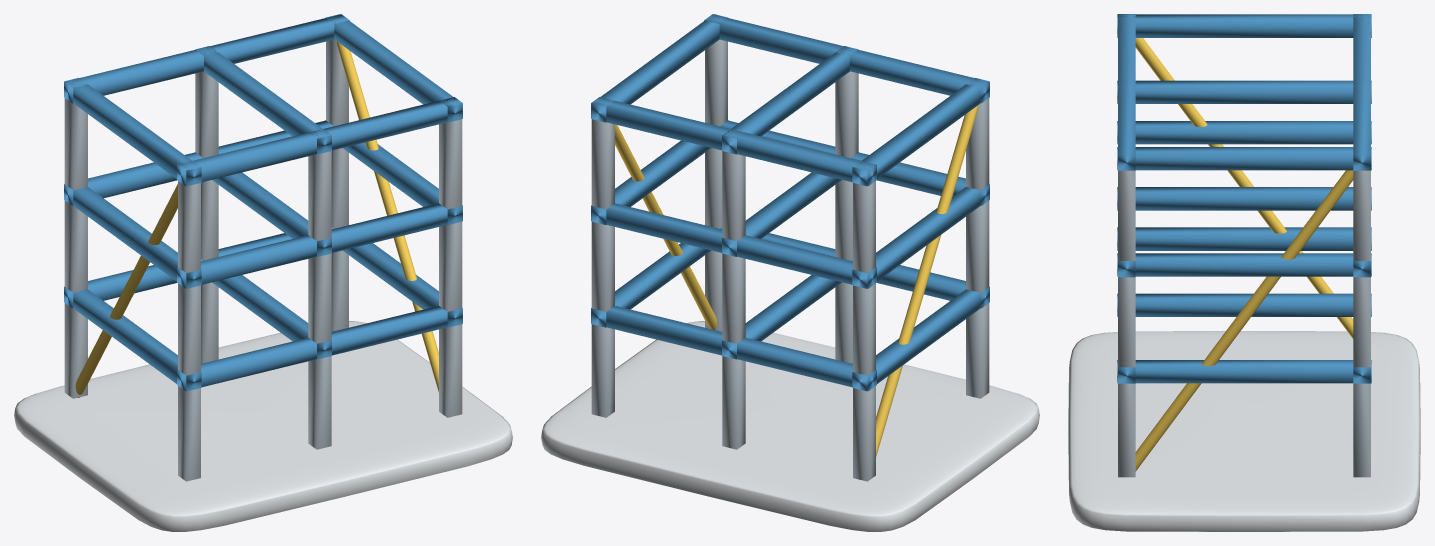
Rendered from structural_frame.glb.
3 views of the same model, side by side, from view 1: azimuth 30°, elevation 25°; view 2: azimuth 150°, elevation 25°; view 3: azimuth 270°, elevation 25° (orthographic). The views are drawn at different scales.
Visible parts, largest first — view 1: Frame_Base, Beam_X_2_0.12, Beam_X_2_-0.12, Beam_X_1_0.12, Beam_X_0_0.12, Beam_Z_2_-0.16, Beam_Z_2_0, Beam_Z_2_0.16, Beam_Z_0_-0.16, Beam_Z_1_-0.16, Beam_X_1_-0.12, Brace_Right (+24 smaller); view 2: Frame_Base, Beam_X_2_-0.12, Beam_X_2_0.12, Beam_X_1_-0.12, Beam_X_0_-0.12, Beam_Z_2_-0.16, Beam_Z_2_0.16, Beam_Z_2_0, Brace_Left, Beam_Z_0_-0.16, Beam_Z_1_-0.16, Beam_Z_0_0 (+24 smaller); view 3: Frame_Base, Beam_Z_2_-0.16, Beam_Z_2_0, Beam_Z_2_0.16, Beam_Z_0_0.16, Beam_Z_1_-0.16, Beam_Z_1_0.16, Beam_Z_1_0, Beam_Z_0_0, Beam_Z_0_-0.16, Brace_Right, Beam_X_2_0.12 (+8 smaller).
Boxes of the visible parts, <box> form: Frame_Base: <box>14,321,512,531</box>; Beam_X_2_0.12: <box>177,97,462,186</box>; Beam_X_2_-0.12: <box>64,14,349,103</box>; Beam_X_1_0.12: <box>177,203,462,288</box>; Beam_X_0_0.12: <box>177,306,462,391</box>; Beam_Z_2_-0.16: <box>64,78,201,186</box>; Beam_Z_2_0: <box>195,46,331,154</box>; Beam_Z_2_0.16: <box>325,14,462,122</box>; Beam_Z_0_-0.16: <box>73,289,201,391</box>; Beam_Z_1_-0.16: <box>73,187,201,288</box>; Beam_X_1_-0.12: <box>64,120,333,205</box>; Brace_Right: <box>337,41,438,392</box>; Frame_Base: <box>541,321,1039,531</box>; Beam_X_2_-0.12: <box>591,97,876,186</box>; Beam_X_2_0.12: <box>704,14,989,103</box>; Beam_X_1_-0.12: <box>591,203,876,288</box>; Beam_X_0_-0.12: <box>591,306,876,391</box>; Beam_Z_2_-0.16: <box>852,78,989,186</box>; Beam_Z_2_0.16: <box>591,14,728,122</box>; Beam_Z_2_0: <box>722,46,858,154</box>; Brace_Left: <box>876,105,978,456</box>; Beam_Z_0_-0.16: <box>852,289,980,391</box>; Beam_Z_1_-0.16: <box>852,187,980,288</box>; Beam_Z_0_0: <box>722,275,841,359</box>; Frame_Base: <box>1068,331,1420,531</box>; Beam_Z_2_-0.16: <box>1117,14,1371,37</box>; Beam_Z_2_0: <box>1117,80,1371,103</box>; Beam_Z_2_0.16: <box>1117,147,1371,170</box>; Beam_Z_0_0.16: <box>1117,360,1371,383</box>; Beam_Z_1_-0.16: <box>1117,121,1371,144</box>; Beam_Z_1_0.16: <box>1117,253,1371,276</box>; Beam_Z_1_0: <box>1117,187,1371,210</box>; Beam_Z_0_0: <box>1117,293,1371,316</box>; Beam_Z_0_-0.16: <box>1117,227,1371,250</box>; Brace_Right: <box>1135,170,1353,471</box>; Beam_X_2_0.12: <box>1118,14,1135,170</box>.
Size of the model in its own units: 0.45 by 0.404 by 0.36.
